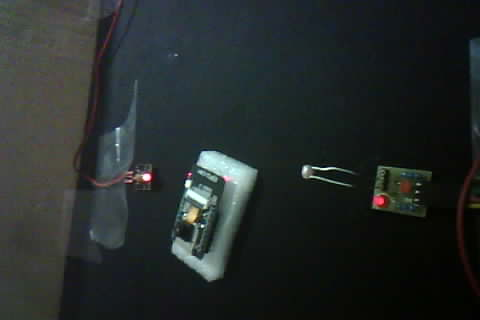esp32: (168, 152, 239, 280)
